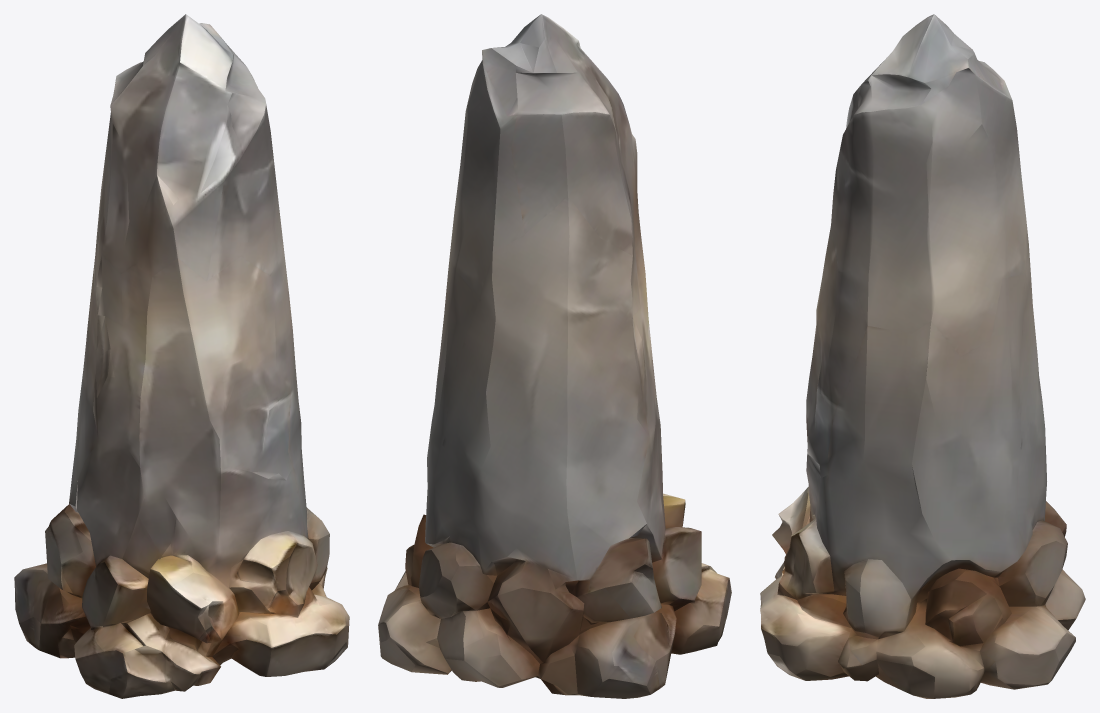
File: m2CrystalBeaconPillar.glb
The picture shows the model from 3 angles, left to right: view 1: azimuth 30°, elevation 25°; view 2: azimuth 150°, elevation 25°; view 3: azimuth 270°, elevation 25°; orthographic projection. The views are drawn at different scales.
Parts seen in each view (by area): view 1: model; view 2: model; view 3: model.
Part boxes in pixels (left/top/right/bottom): model: left=14, top=14, right=349, bottom=698; model: left=378, top=14, right=731, bottom=698; model: left=760, top=14, right=1085, bottom=698.
Size of the model in its own units: 0.8799 by 1.89 by 0.8881.
Materials: 1 (1 with a texture image).
